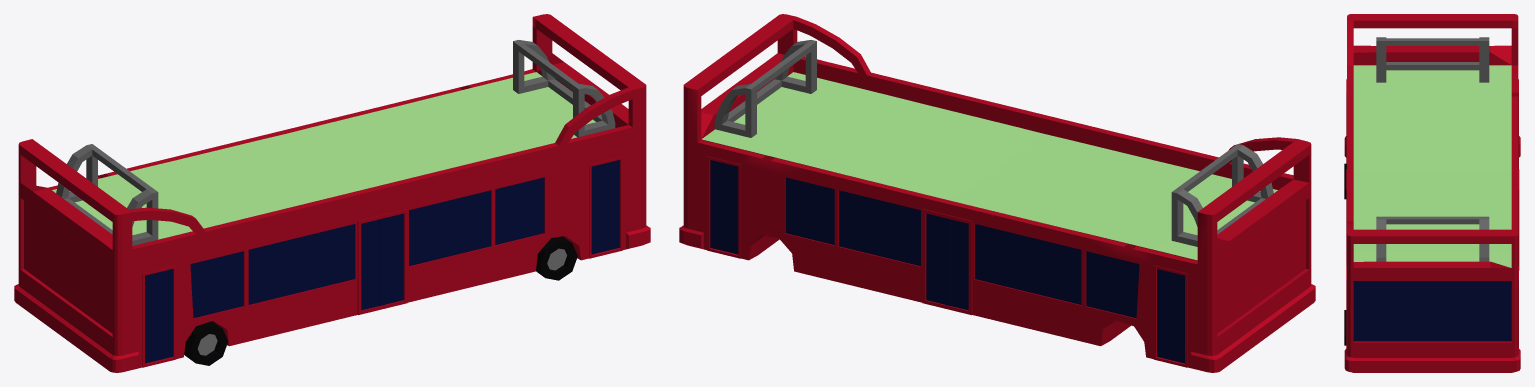
Rendered from thing_bus.fbx.
3 renders of one model, left to right at view 1: azimuth 30°, elevation 25°; view 2: azimuth 150°, elevation 25°; view 3: azimuth 270°, elevation 25°, orthographic. The views are drawn at different scales.
Visible parts, largest first — view 1: BézierCurve.006 Remeshed Remeshed, Cube, Cylinder, Cube.001; view 2: BézierCurve.006 Remeshed Remeshed, Cube, Cube.001; view 3: BézierCurve.006 Remeshed Remeshed, Cube.001, Cube, Cylinder.
Boxes of the visible parts, x1,y1,x2,y2 form: BézierCurve.006 Remeshed Remeshed: [14, 14, 650, 372]; Cube: [513, 40, 615, 137]; Cylinder: [184, 236, 577, 365]; Cube.001: [56, 144, 158, 245]; BézierCurve.006 Remeshed Remeshed: [679, 14, 1315, 372]; Cube: [714, 40, 816, 137]; Cube.001: [1171, 144, 1273, 246]; BézierCurve.006 Remeshed Remeshed: [1344, 14, 1520, 372]; Cube.001: [1376, 37, 1489, 82]; Cube: [1376, 216, 1489, 261]; Cylinder: [1344, 163, 1346, 345].
Bounding box in the file's own units: 1287 × 391 × 426.
